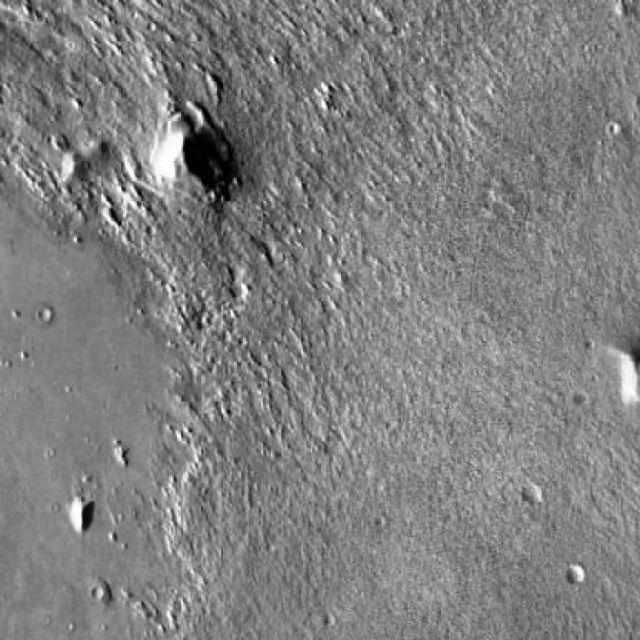crater: (520, 482, 538, 501), (566, 564, 585, 582), (571, 390, 587, 405)
